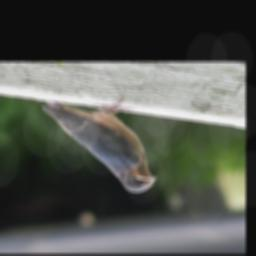Swallow: (41, 95, 158, 193)
